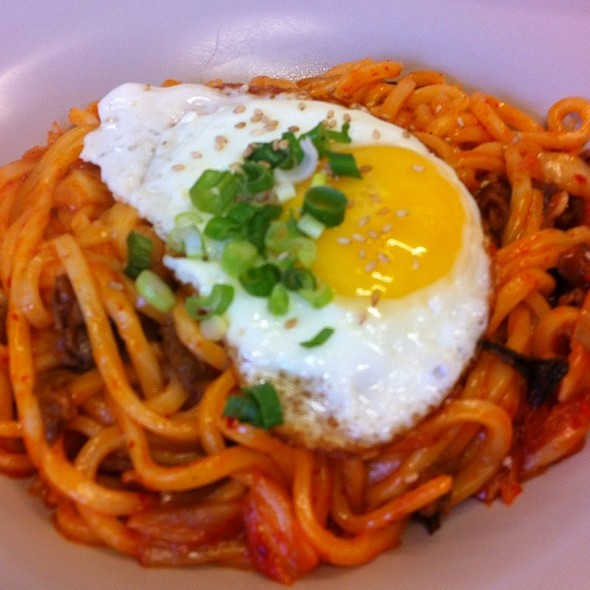fried egg: (170, 116, 472, 401)
plain spaghetti: (5, 208, 233, 569), (435, 91, 590, 507)
